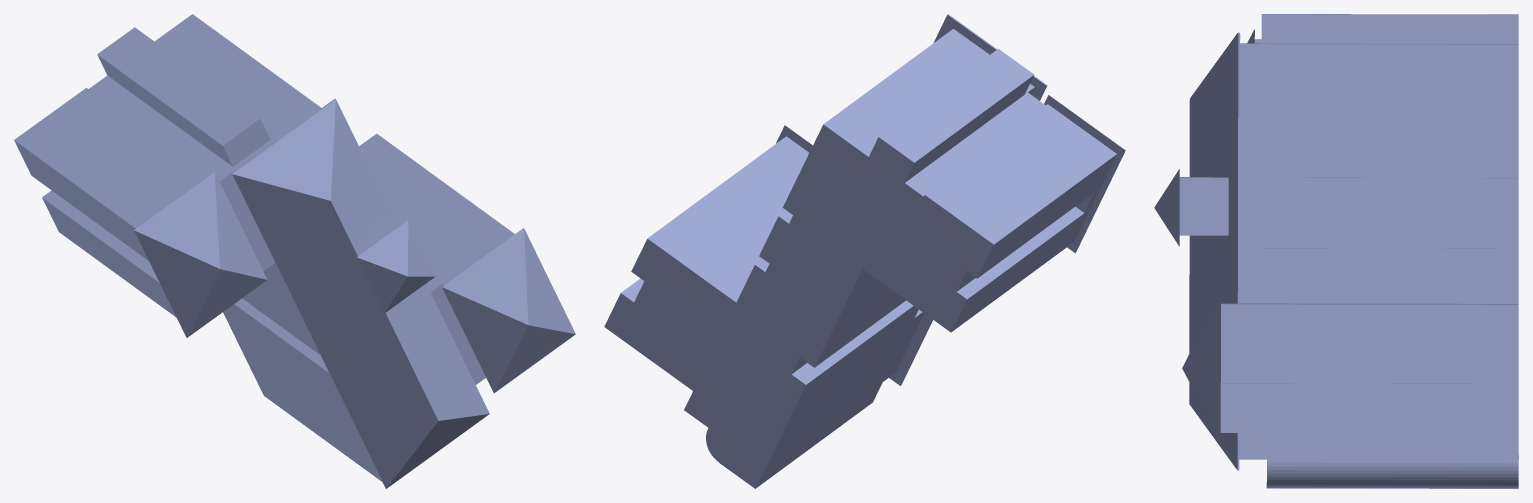
The model's file is raffles-hall-kuok-foundation-building.glb.
3 views of the same model, side by side, from view 1: azimuth 30°, elevation 25°; view 2: azimuth 150°, elevation 25°; view 3: azimuth 270°, elevation 25° (orthographic). The views are drawn at different scales.
Visible parts, largest first — view 1: Raffles Hall Kuok Foundation Building; view 2: Raffles Hall Kuok Foundation Building; view 3: Raffles Hall Kuok Foundation Building.
Part boxes in pixels (x1,y1,x2,y2): Raffles Hall Kuok Foundation Building: (14, 14, 575, 488); Raffles Hall Kuok Foundation Building: (604, 14, 1125, 488); Raffles Hall Kuok Foundation Building: (1154, 14, 1518, 488).
Size of the model in its own units: 46.09 by 42.74 by 33.45.
